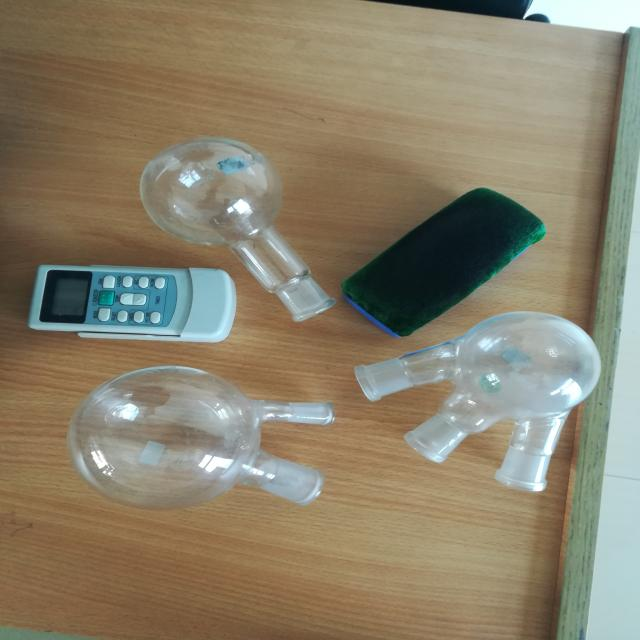Round_Bottom_Flask_Borosilicate_Glass_1_Neck: (128, 95, 354, 341)
Round_Bottom_Flask_Borosilicate_Glass_2_Neck: (30, 349, 352, 543)
Round_Bottom_Flask_Borosilicate_Glass_3_Neck: (342, 292, 640, 518)
